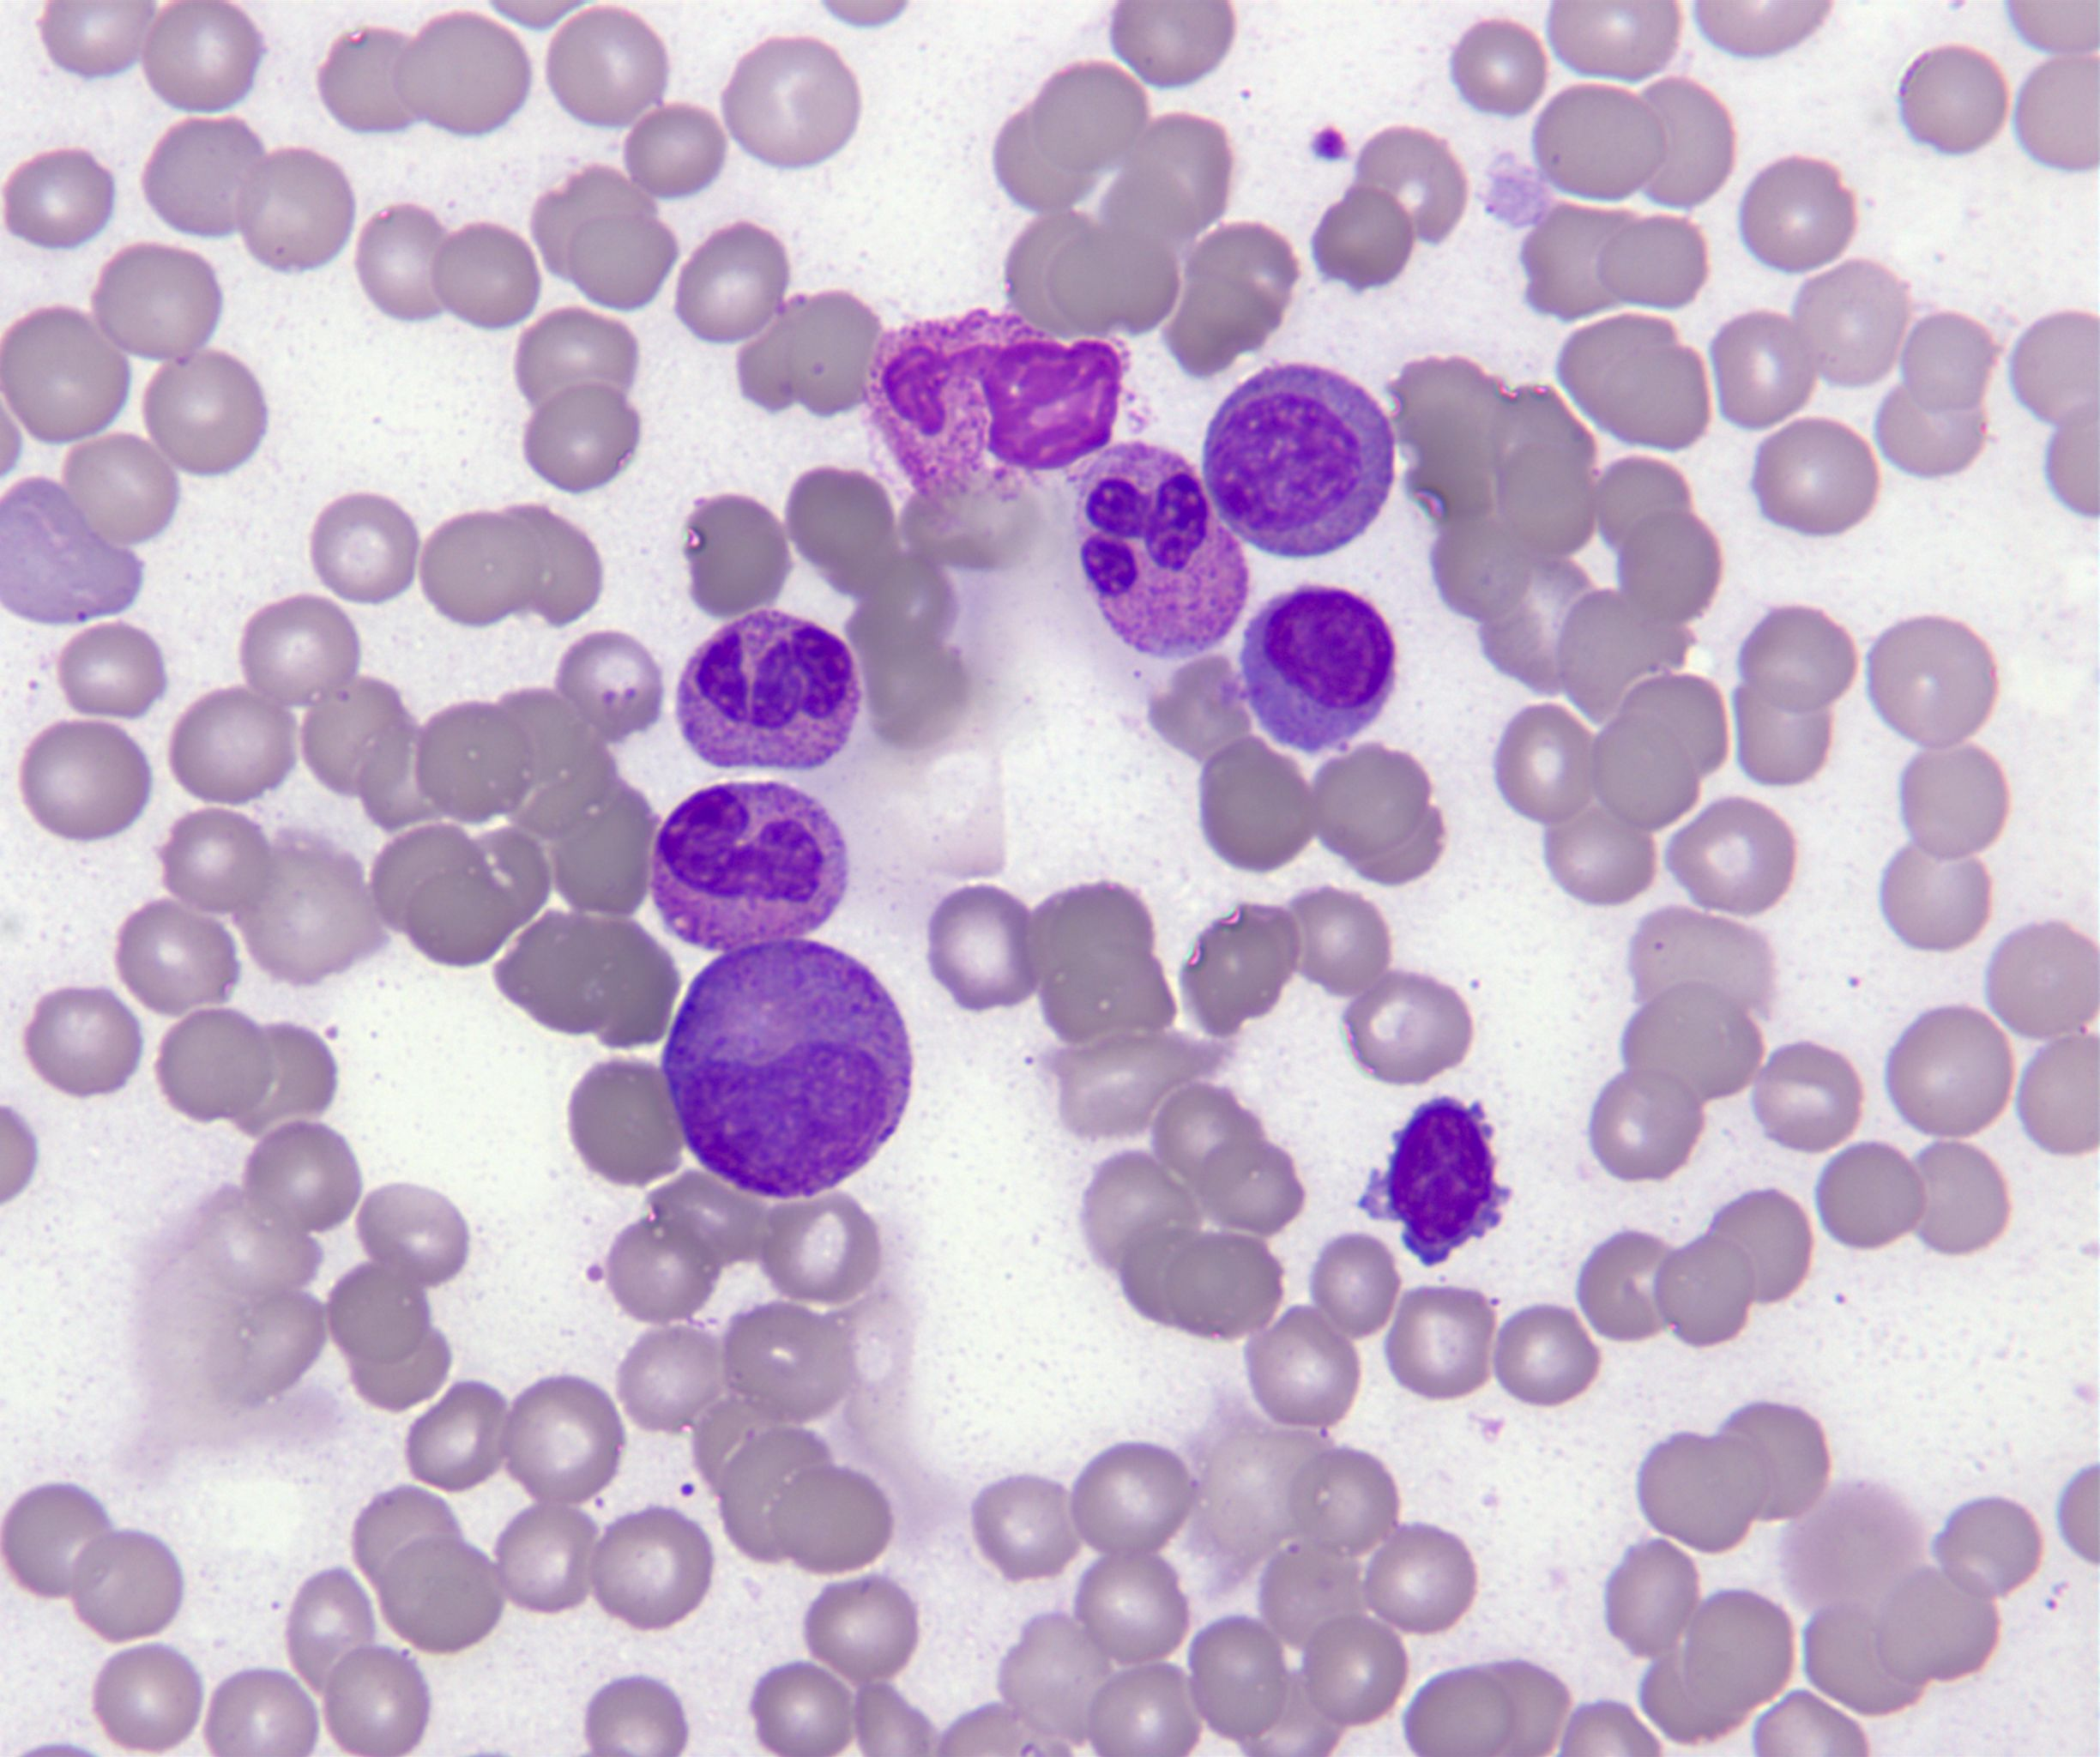3: (663, 940, 914, 1200), (1203, 365, 1394, 557)
32: (1357, 1096, 1510, 1268), (1240, 586, 1395, 755)
5: (649, 783, 846, 949)
6: (1074, 441, 1247, 663), (678, 612, 860, 775)
x: (865, 311, 1127, 513)
